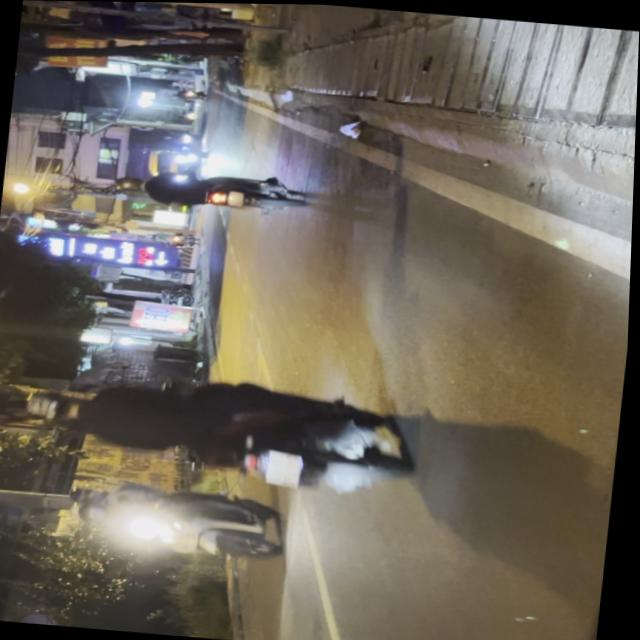helmet: (24, 387, 87, 425), (70, 485, 112, 507), (71, 501, 111, 524), (114, 176, 145, 195)
licenseplate: (15, 361, 422, 501), (62, 474, 294, 565), (110, 162, 312, 222)
nohelmet: (264, 450, 303, 487)
